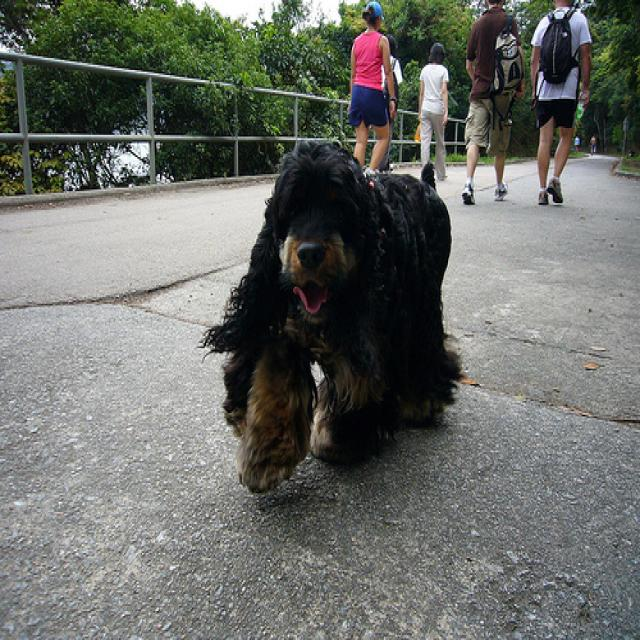dog-english_cocker_spaniel: (195, 133, 475, 500)
